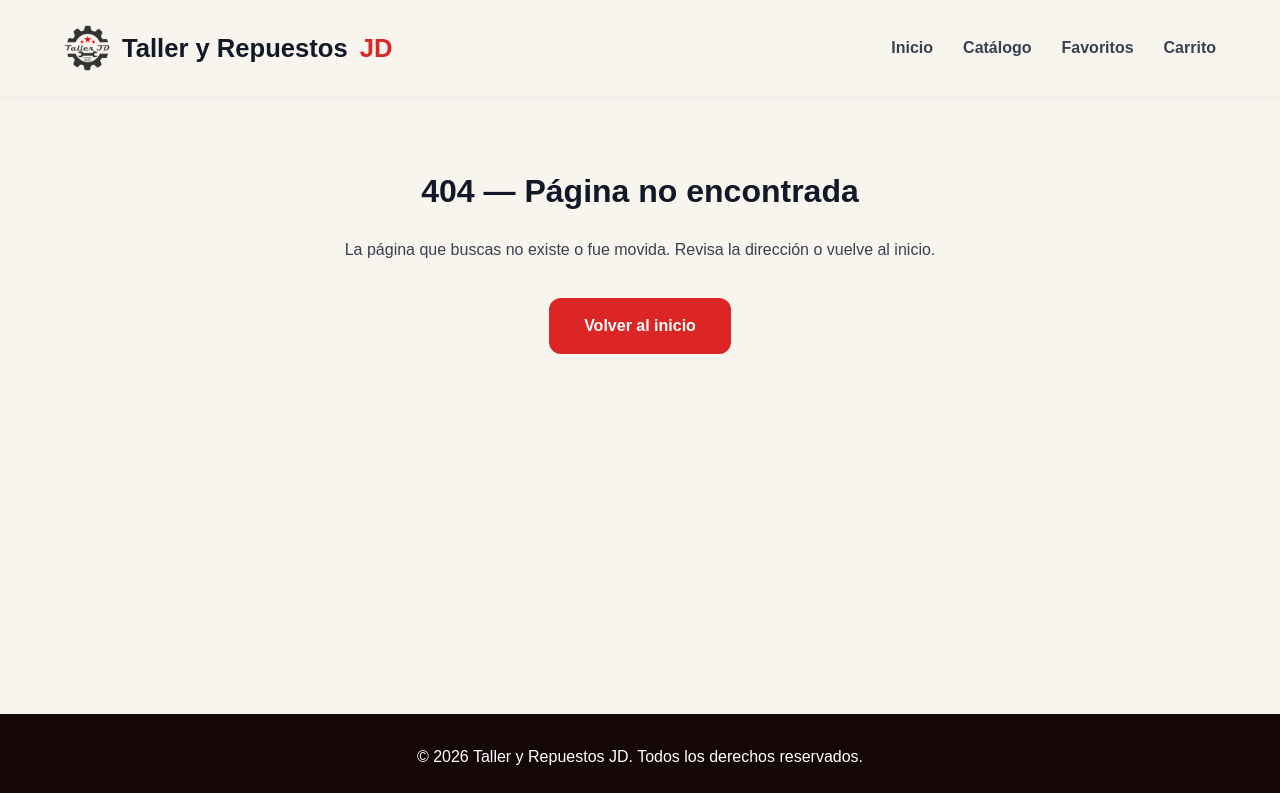
Navegación SPA y React Router › desde la página 404, "Volver al inicio" regresa a la página principal
Click the link "Volver al inicio".
click(640, 326)  # box [549,298,731,354]
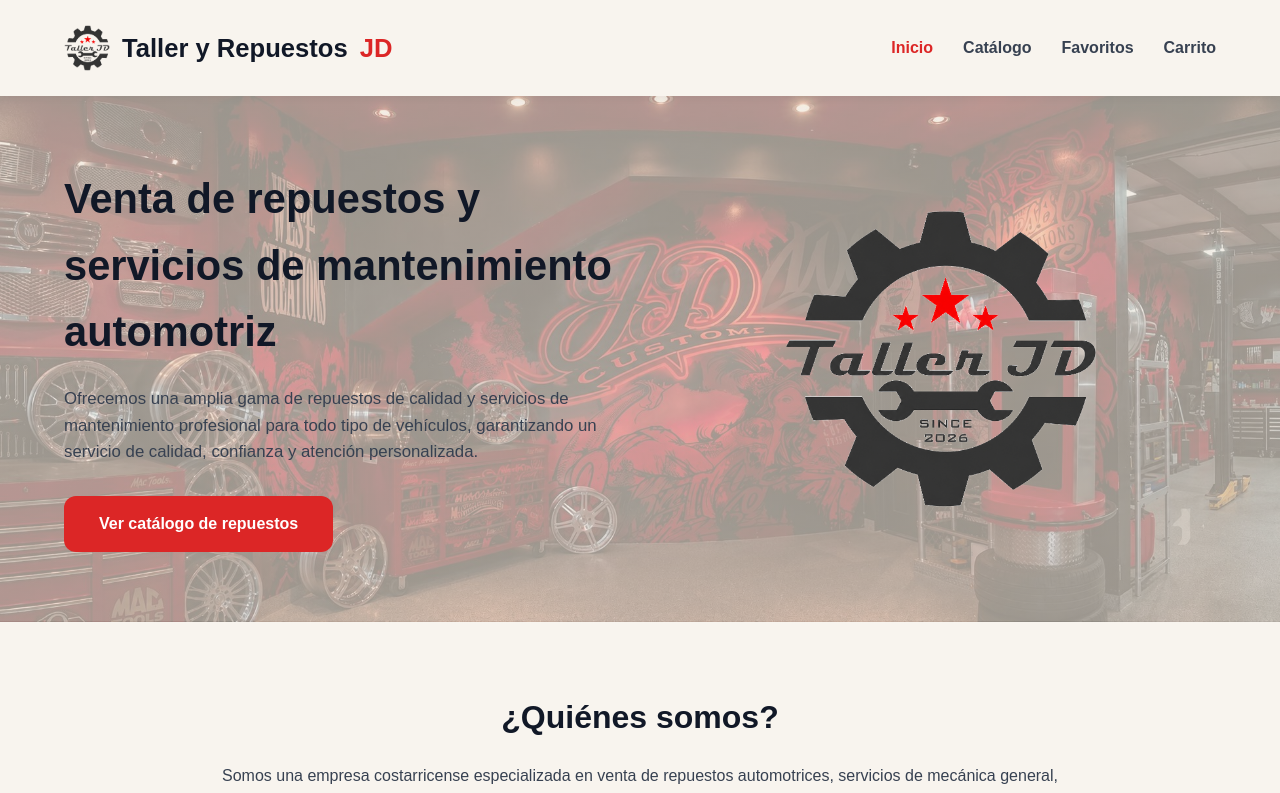
Check: the heading "Venta de repuestos y servicios de mantenimiento automotriz" is shown, box [64,166,615,366]
